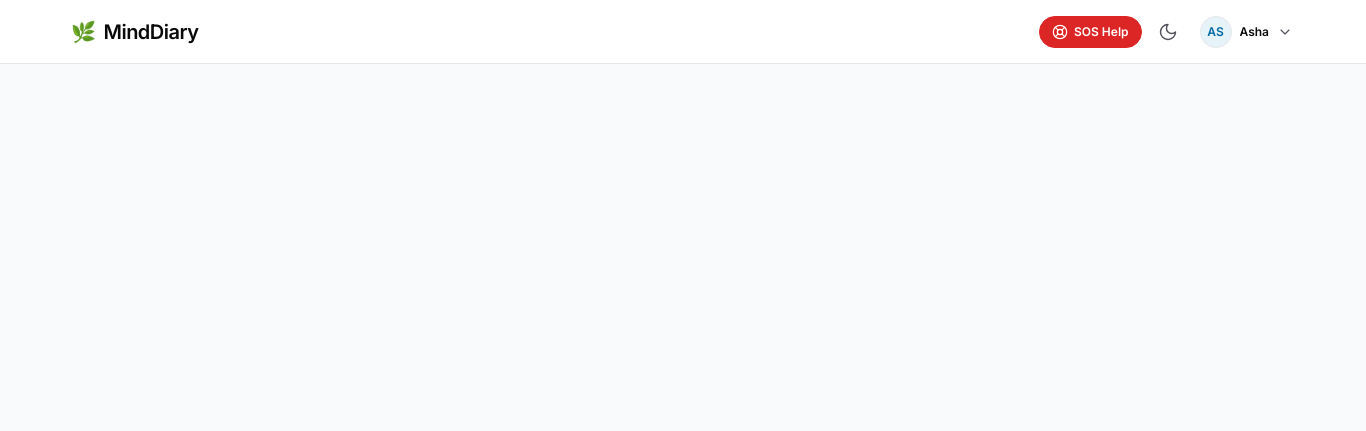
Test: Part U3 Navigation & Top Bar › Header renders SOS pill and Avatar menu with all secondary destinations
Check: the button "SOS Help" is shown, box top-left (1039, 16), bottom-right (1142, 48)
Click the button with aria-label "User account menu" at {"x": 1246, "y": 32}, box top-left (1194, 10), bottom-right (1299, 54)
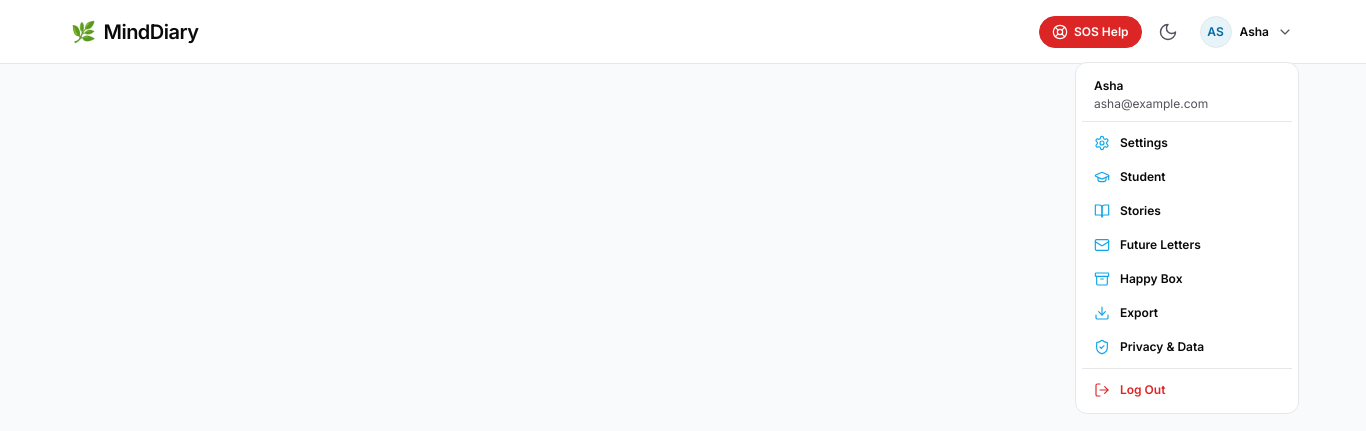
Check: the menu item "Settings" is shown, box top-left (1082, 126), bottom-right (1292, 160)
Check: the menu item "Student" is shown, box top-left (1082, 160), bottom-right (1292, 194)
Check: the menu item "Stories" is shown, box top-left (1082, 194), bottom-right (1292, 228)
